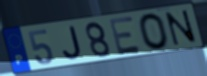5: (27, 27, 55, 66)
8: (84, 20, 111, 59)
E: (108, 15, 144, 57)
J: (61, 24, 84, 61)
N: (163, 9, 199, 48)
O: (137, 12, 171, 51)
